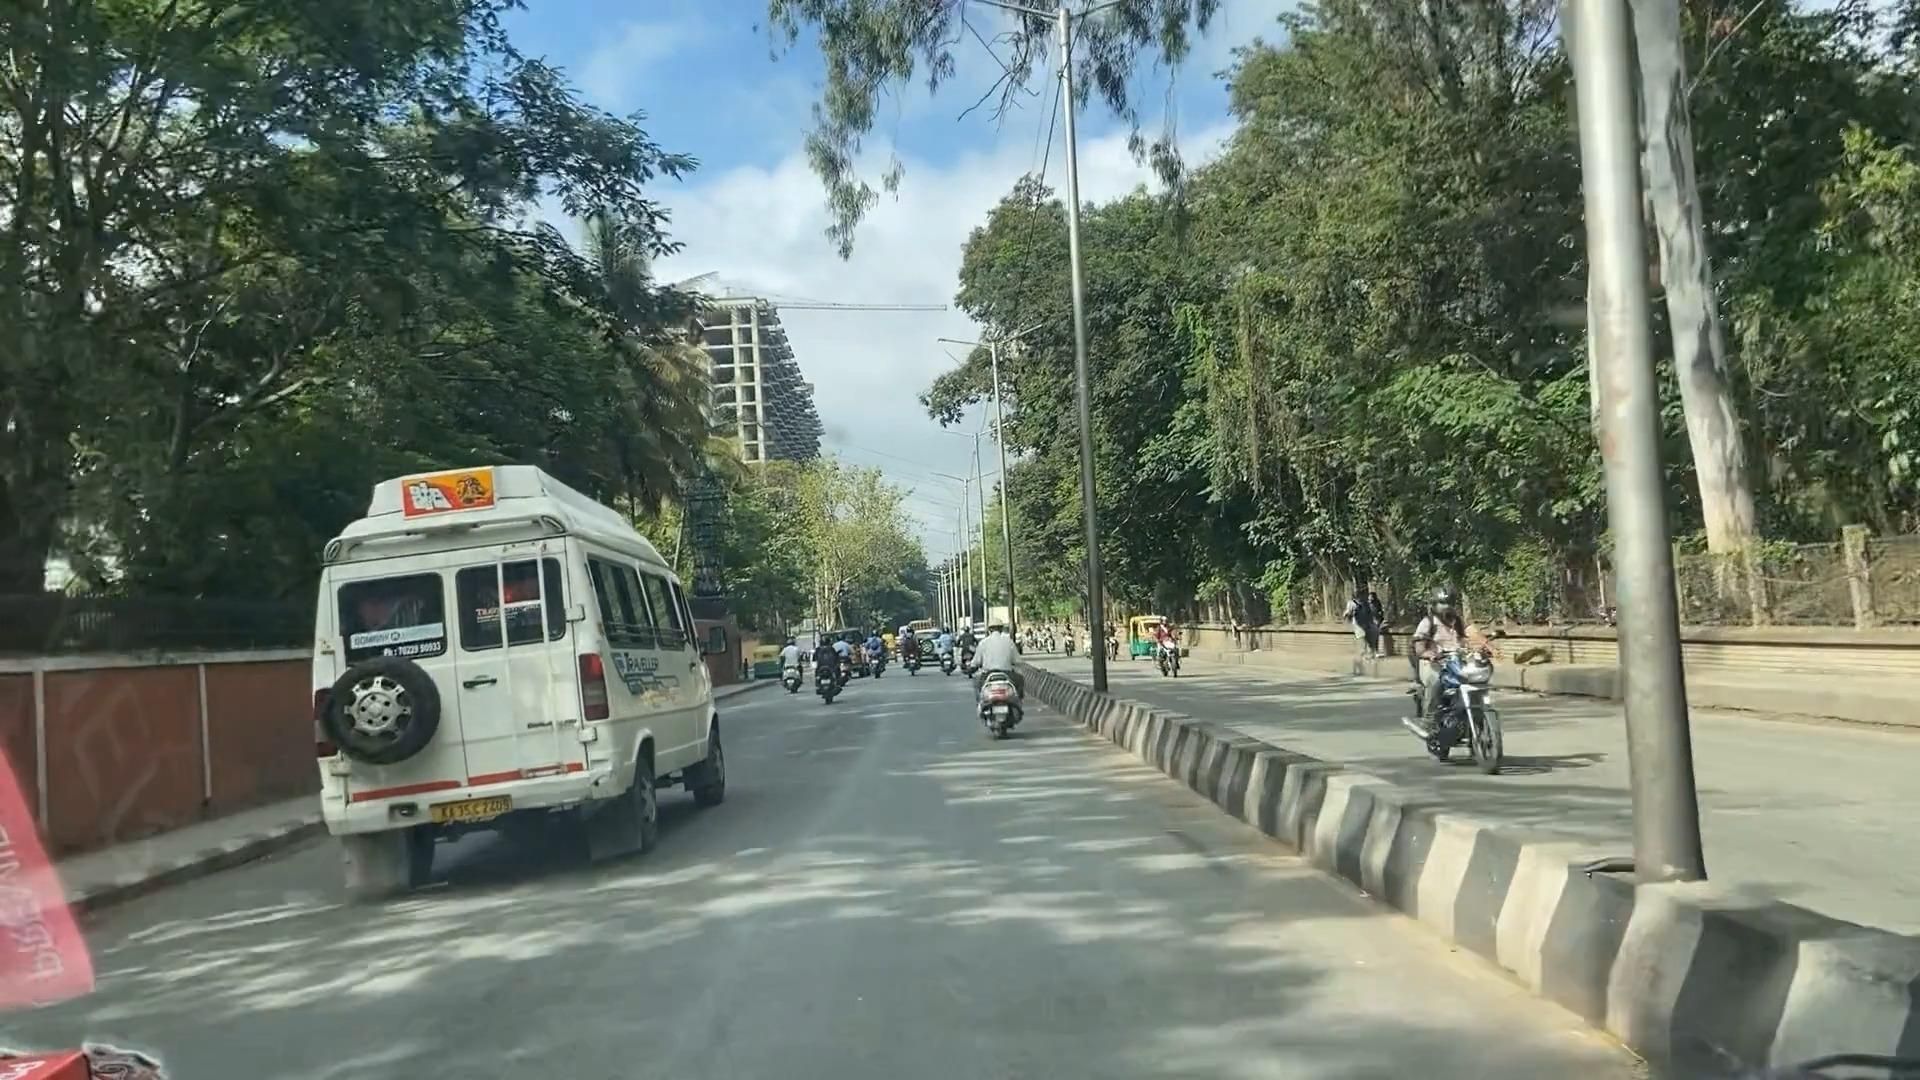HMV: (314, 527, 624, 873)
LMV: (976, 612, 1027, 735), (806, 624, 841, 698)
